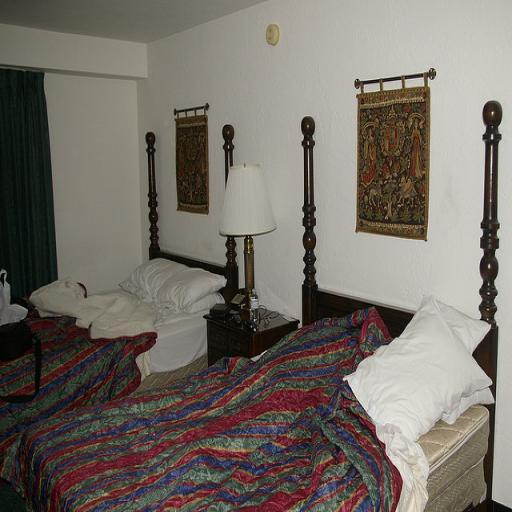bed: (29, 100, 509, 510)
